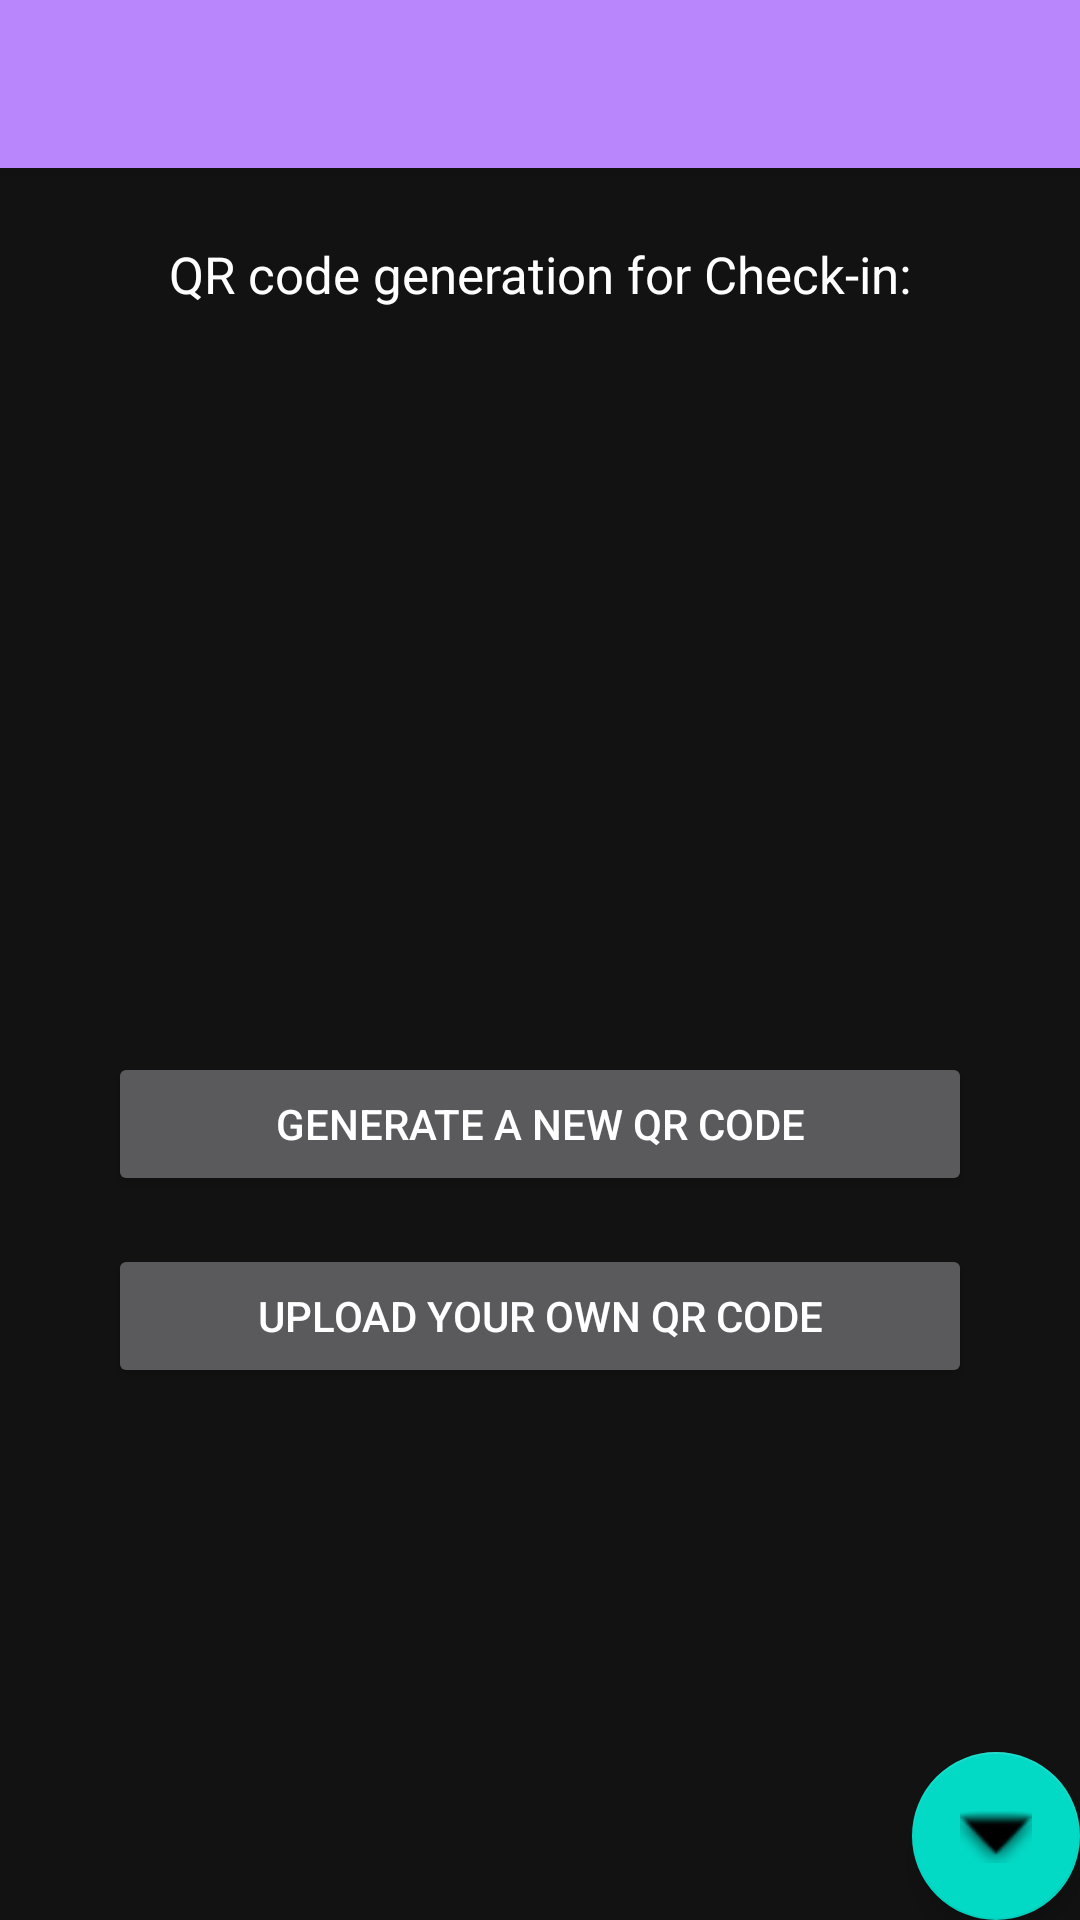

Where to tap for icons on this 1080x1920 app screen, as (x,y):
arrow down float: (996,1836)
